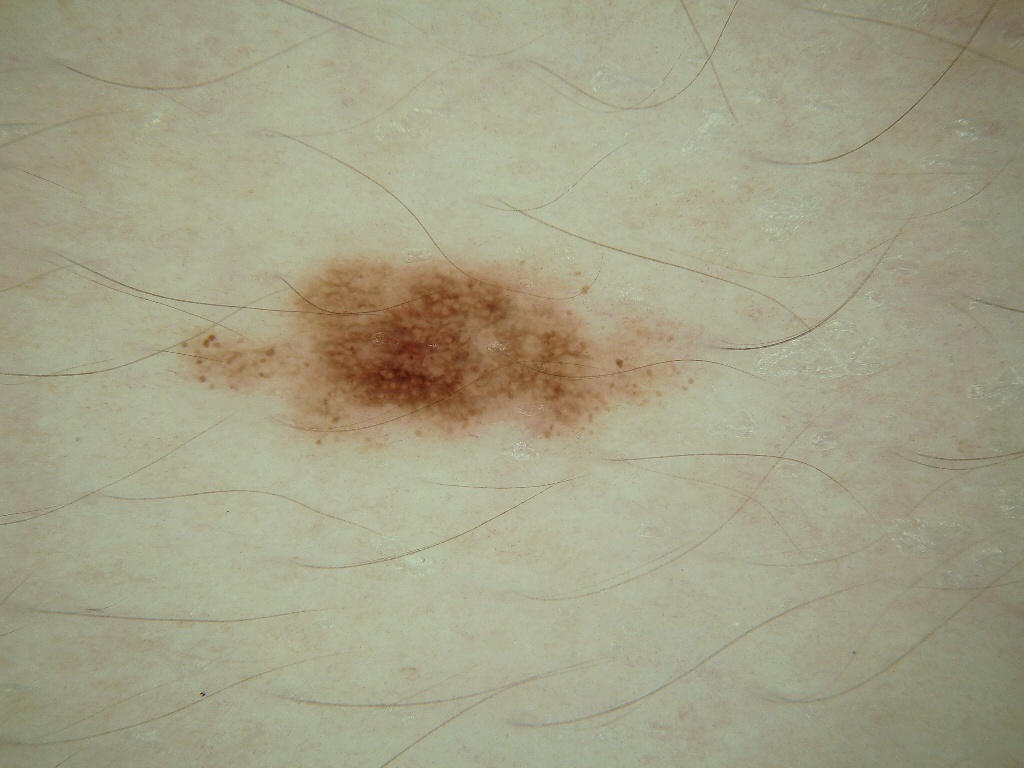Detected Lesion: (170, 248, 706, 458)
